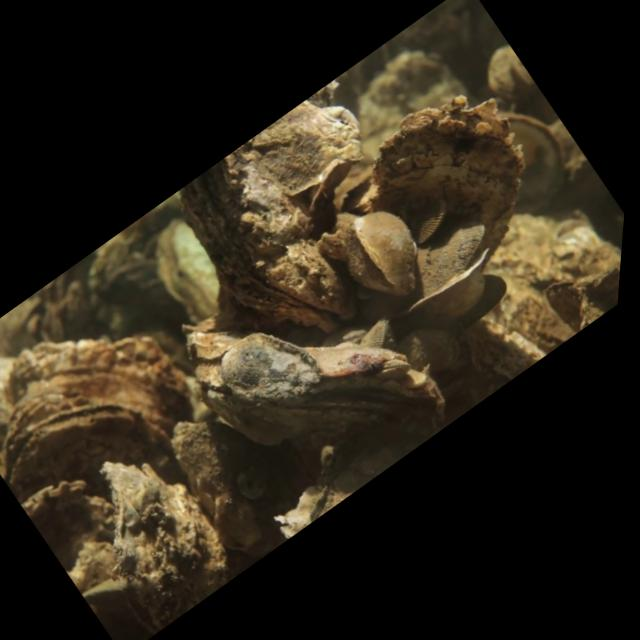Oyster-Closed: (178, 100, 366, 335), (370, 94, 527, 274), (98, 460, 229, 635), (4, 398, 199, 513), (195, 359, 440, 447), (168, 419, 313, 564), (21, 478, 121, 595), (179, 302, 329, 369), (154, 217, 224, 323), (336, 208, 418, 297), (392, 327, 461, 378), (406, 197, 449, 247), (358, 315, 400, 350), (373, 359, 413, 379)
Oyster-Indeterminate: (4, 332, 196, 454), (219, 331, 328, 407)
Oyster-Open: (393, 225, 490, 321)
